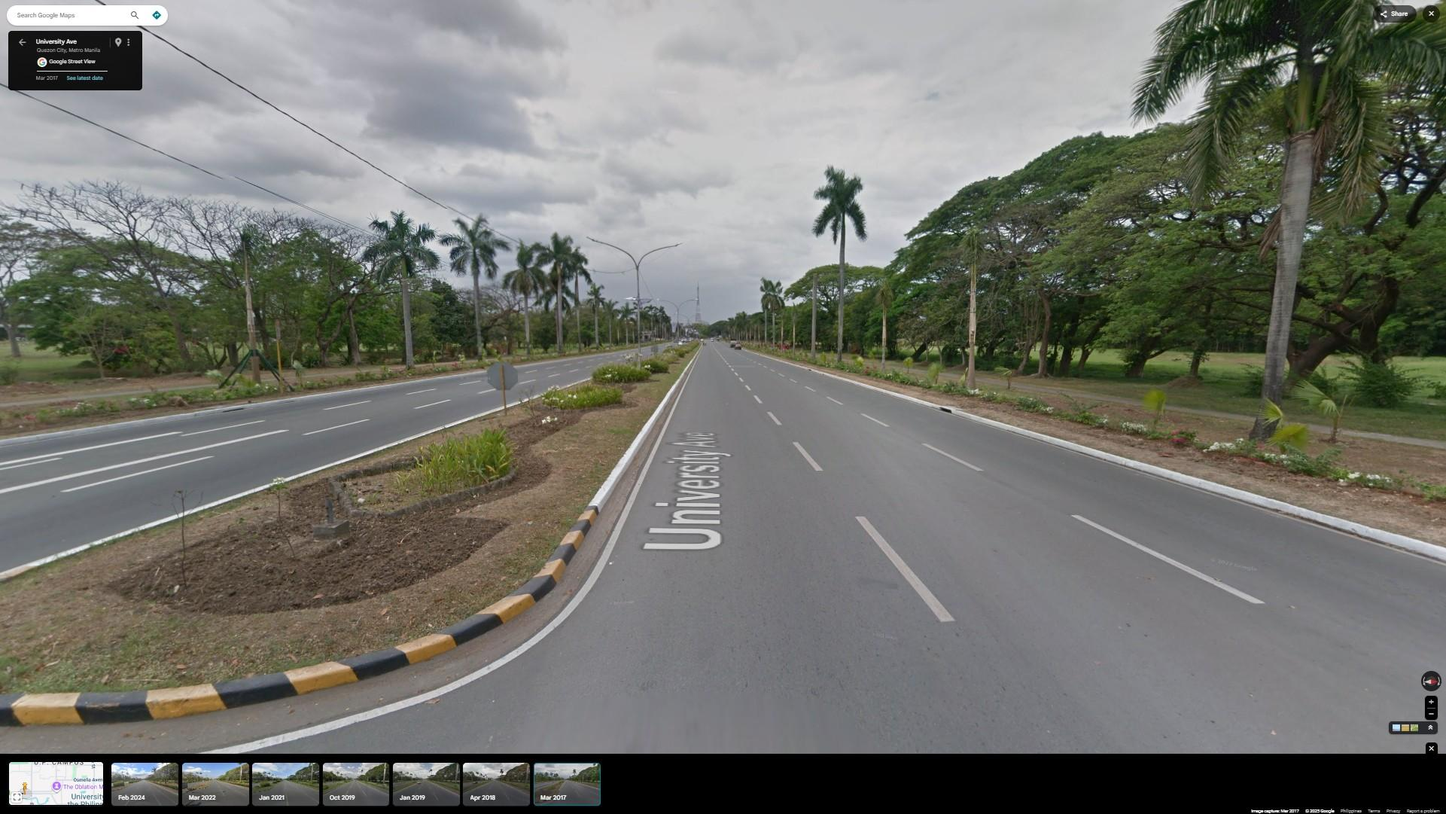pedestrian: (782, 344, 786, 352), (776, 342, 779, 351), (786, 343, 789, 351), (778, 343, 781, 351), (770, 343, 773, 351), (702, 340, 705, 347), (705, 342, 707, 347)
